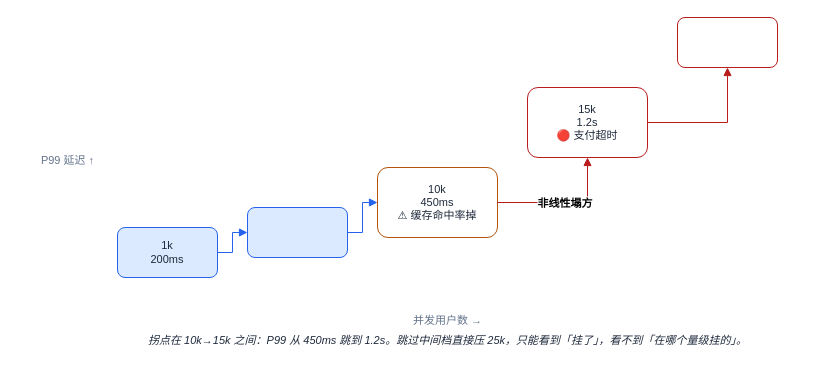
Some shapes in this 834 by 380 pixel diagram are drawn without their labels. The shapes that lost their labels are listed below. From the top down, each one's centre as x and y in pixels, then its label:
At point 727,42: "25k 雪崩".
At point 297,232: "5k 280ms".
